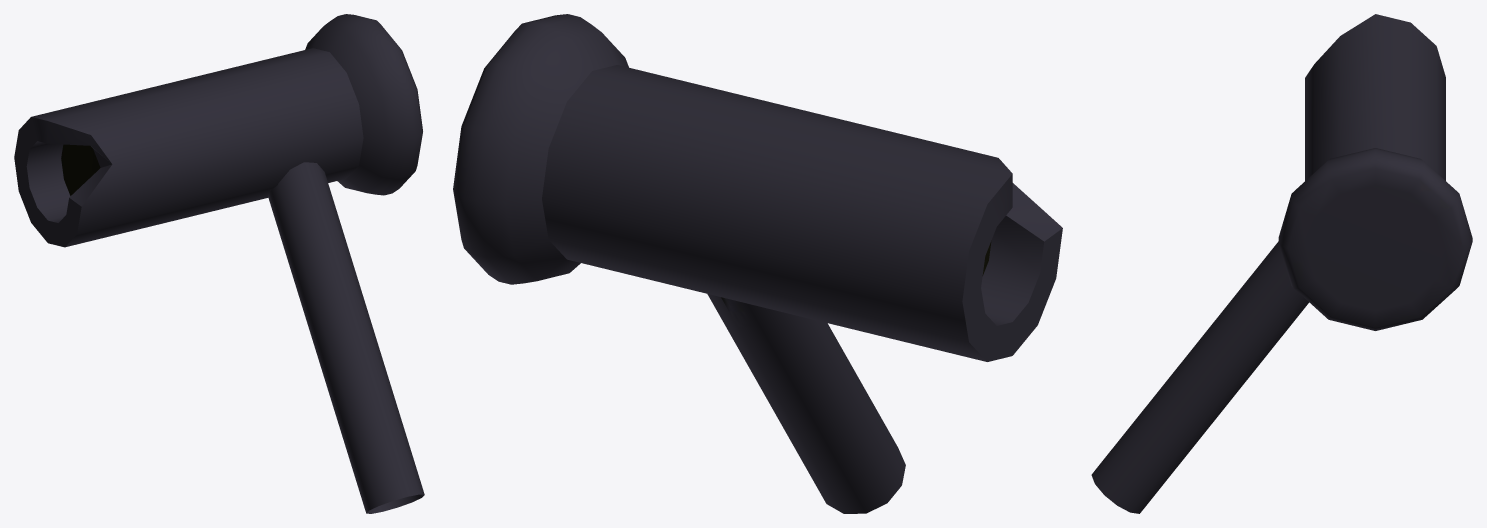
File: Assist_jixiebi01_L_huai.FBX
3 views of the same model, side by side, from view 1: azimuth 30°, elevation 25°; view 2: azimuth 150°, elevation 25°; view 3: azimuth 270°, elevation 25° (orthographic). The views are drawn at different scales.
Visible parts, largest first — view 1: Assist_jixiebi01_L_huai; view 2: Assist_jixiebi01_L_huai; view 3: Assist_jixiebi01_L_huai.
Part boxes in pixels (x1=…): Assist_jixiebi01_L_huai: x1=14, y1=14, x2=424, y2=513; Assist_jixiebi01_L_huai: x1=453, y1=14, x2=1062, y2=513; Assist_jixiebi01_L_huai: x1=1091, y1=14, x2=1472, y2=513.
Size of the model in its own units: 1.6 by 1.78 by 1.52.
Materials: 1 (1 with a texture image).
